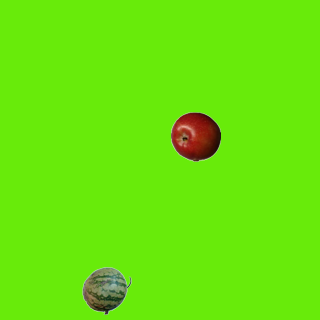Apple Braeburn: (170, 111, 220, 161)
Watermelon: (81, 265, 131, 315)
